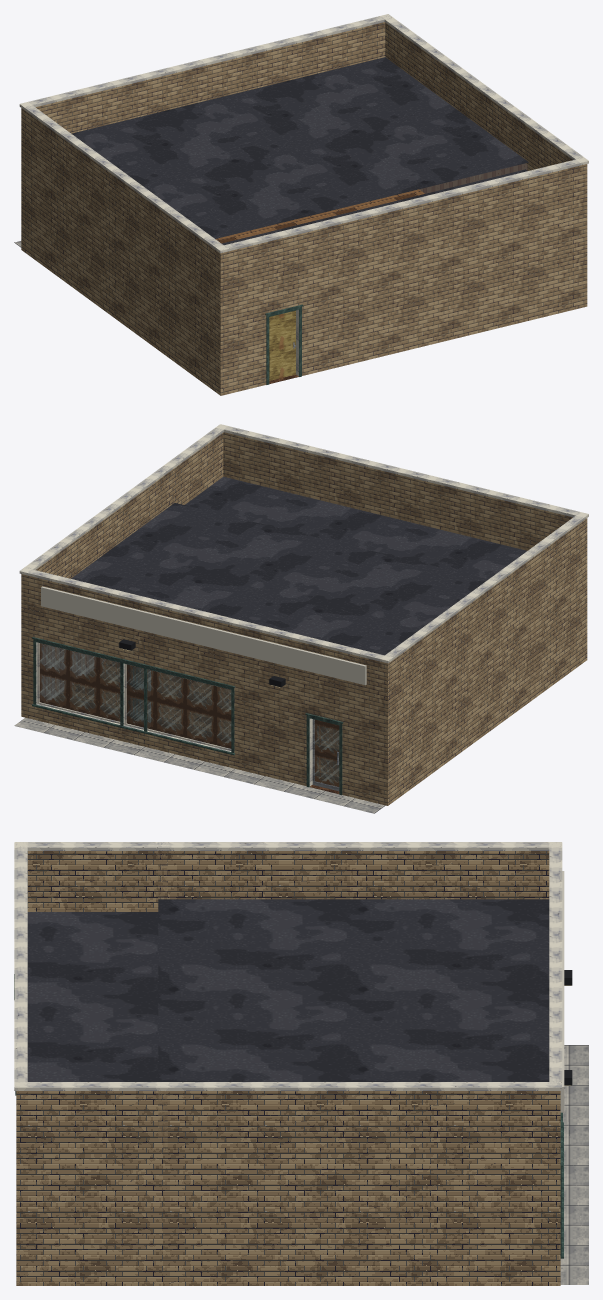
The model's file is COM_Storefront_A.glb.
3 renders of one model, top to bottom at view 1: azimuth 30°, elevation 25°; view 2: azimuth 150°, elevation 25°; view 3: azimuth 270°, elevation 25°, orthographic. The views are drawn at different scales.
Parts seen in each view (by area): view 1: COM_Storefront_A_Exterior, COM_Storefront_A_Interior, INT_Door_BackExit; view 2: COM_Storefront_A_Exterior, COM_Storefront_A_Interior, INT_Door_Entrance; view 3: COM_Storefront_A_Exterior.
Part boxes in pixels (x1,y1,x2,y2): COM_Storefront_A_Exterior: (14, 14, 588, 395); COM_Storefront_A_Interior: (215, 163, 527, 243); INT_Door_BackExit: (269, 310, 295, 380); COM_Storefront_A_Exterior: (14, 424, 588, 813); COM_Storefront_A_Interior: (41, 644, 338, 784); INT_Door_Entrance: (312, 719, 339, 791); COM_Storefront_A_Exterior: (14, 842, 588, 1285).
Size of what is drawn, in the model's own units: 12.28 by 4.67 by 12.15.
16 materials, 16 textured.
